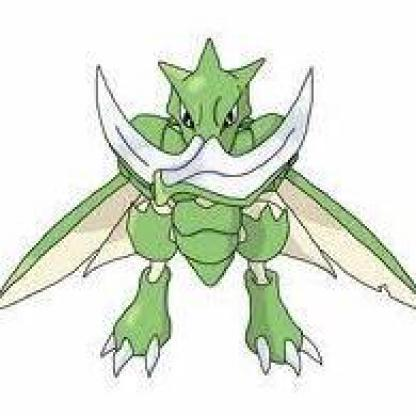Scyther: (1, 5, 415, 415)
